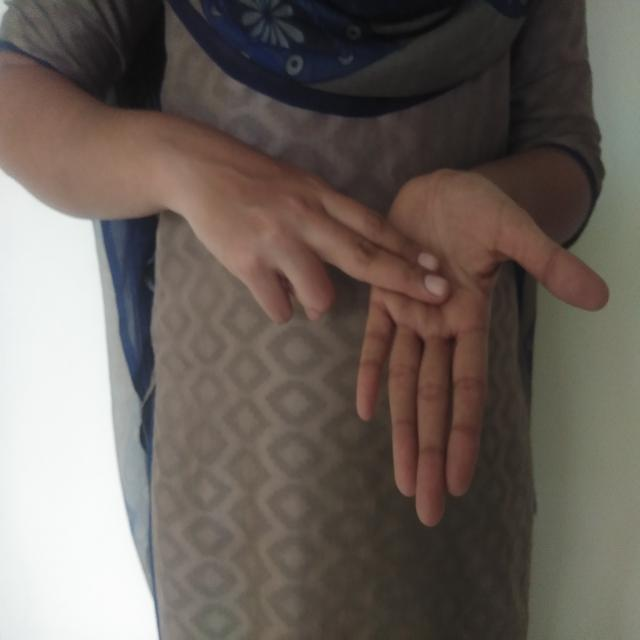N: (181, 122, 628, 538)
